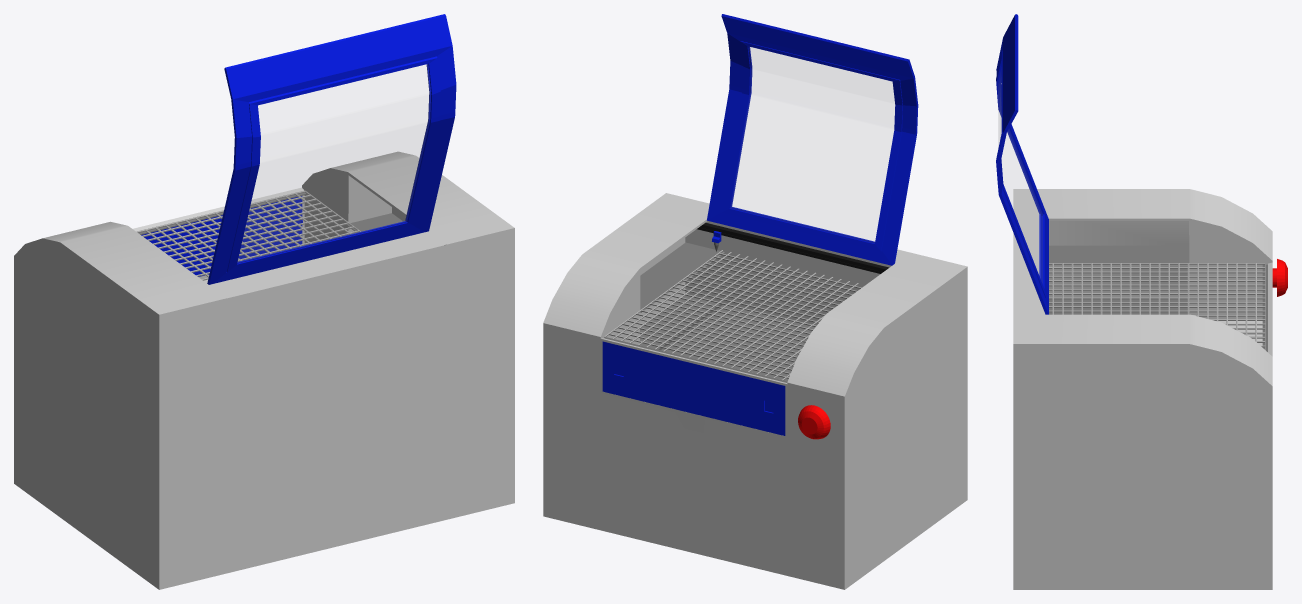
Rendered from Custom Cutter.fbx.
3 views of the same model, side by side, from view 1: azimuth 30°, elevation 25°; view 2: azimuth 150°, elevation 25°; view 3: azimuth 270°, elevation 25° (orthographic). The views are drawn at different scales.
Parts seen in each view (by area): view 1: Cutter Main, Cutter Main.001, Plane, Cutter Door 1; view 2: Cutter Main, Cutter Main.001, Plane, Cutter Door 1, Cutter Track, Red Button; view 3: Cutter Main, Plane, Cutter Main.001, Red Button.
Boxes of the visible parts, box(x1,y1,x2,y2) form: Cutter Main: box(14, 151, 514, 589); Cutter Main.001: box(207, 14, 456, 284); Plane: box(137, 190, 360, 283); Cutter Door 1: box(141, 196, 302, 276); Cutter Main: box(543, 193, 967, 589); Cutter Main.001: box(707, 14, 918, 265); Plane: box(604, 250, 861, 382); Cutter Door 1: box(602, 341, 785, 435); Cutter Track: box(697, 222, 889, 273); Red Button: box(798, 405, 830, 439); Cutter Main: box(1013, 189, 1272, 589); Plane: box(1049, 263, 1265, 350); Cutter Main.001: box(996, 14, 1048, 314); Red Button: box(1272, 259, 1287, 296).
Bounding box in the file's own units: 1140 × 1545 × 908.
